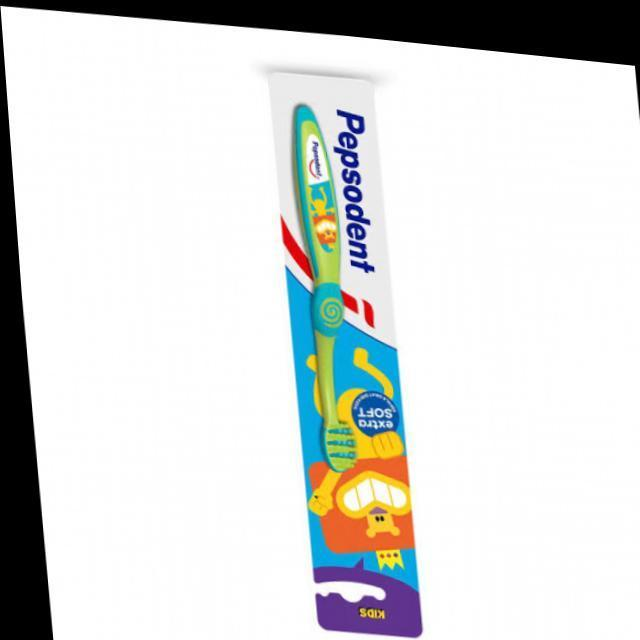toothbrush: (283, 89, 351, 473)
